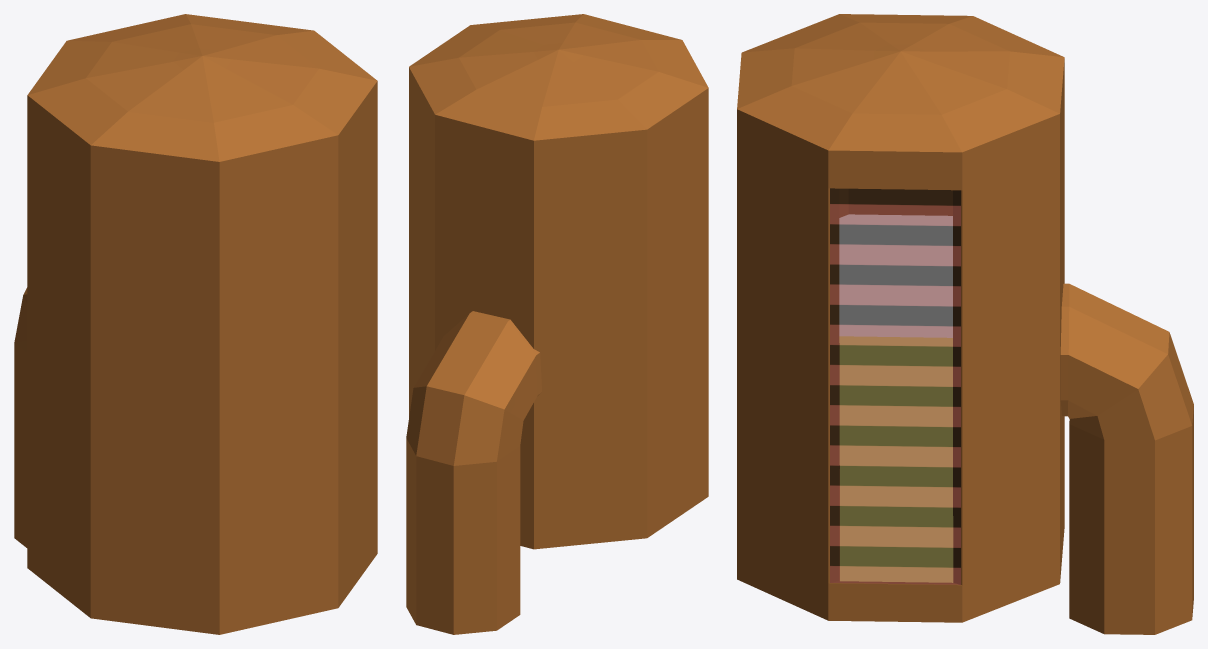
File: VAT120.glb
The picture shows the model from 3 angles, left to right: view 1: azimuth 30°, elevation 25°; view 2: azimuth 150°, elevation 25°; view 3: azimuth 270°, elevation 25°; orthographic projection. The views are drawn at different scales.
Parts seen in each view (by area): view 1: Cylinder, Cylinder.001; view 2: Cylinder, Cylinder.001; view 3: Cylinder, glass, liquidHeight, Cylinder.001.
Part boxes in pixels (bbox=[...]): Cylinder: bbox=[27, 14, 377, 634]; Cylinder.001: bbox=[14, 287, 27, 547]; Cylinder: bbox=[409, 14, 708, 549]; Cylinder.001: bbox=[406, 311, 541, 634]; Cylinder: bbox=[737, 14, 1064, 622]; glass: bbox=[830, 188, 960, 584]; liquidHeight: bbox=[839, 214, 952, 582]; Cylinder.001: bbox=[1060, 283, 1193, 634].
Size of the model in its own units: 1.82 by 3.44 by 2.54.
Materials: 4 (1 with a texture image).
